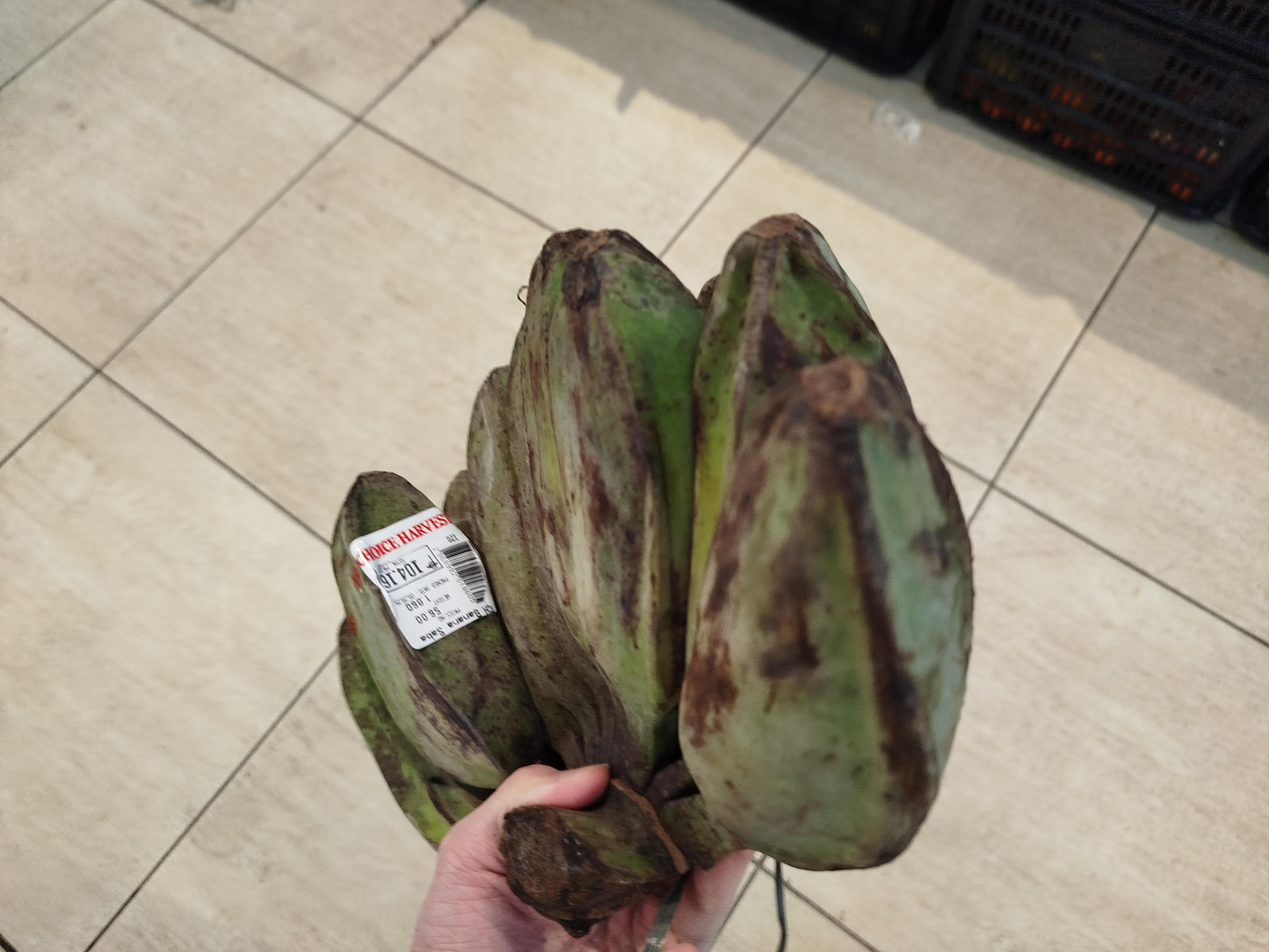underripe: (332, 214, 973, 870)
